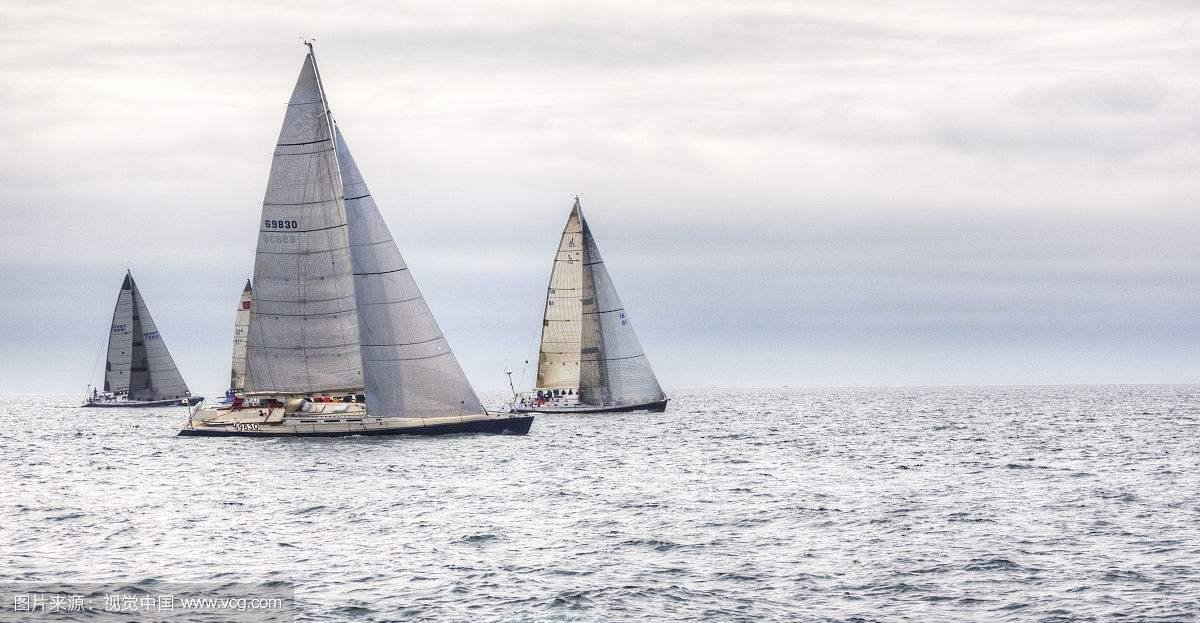fanchuan: (177, 9, 535, 443), (512, 183, 675, 421), (82, 260, 208, 411)
